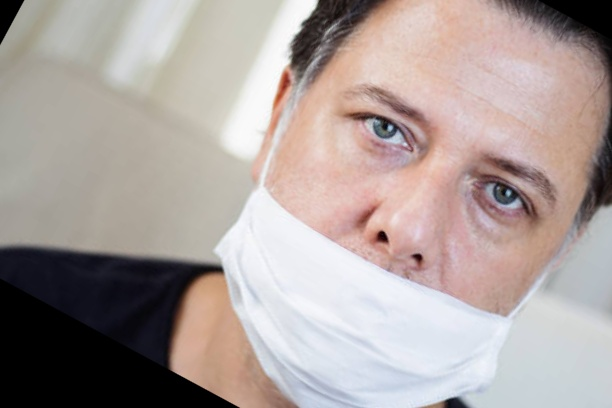mask_weared_incorrect: (233, 1, 598, 407)
